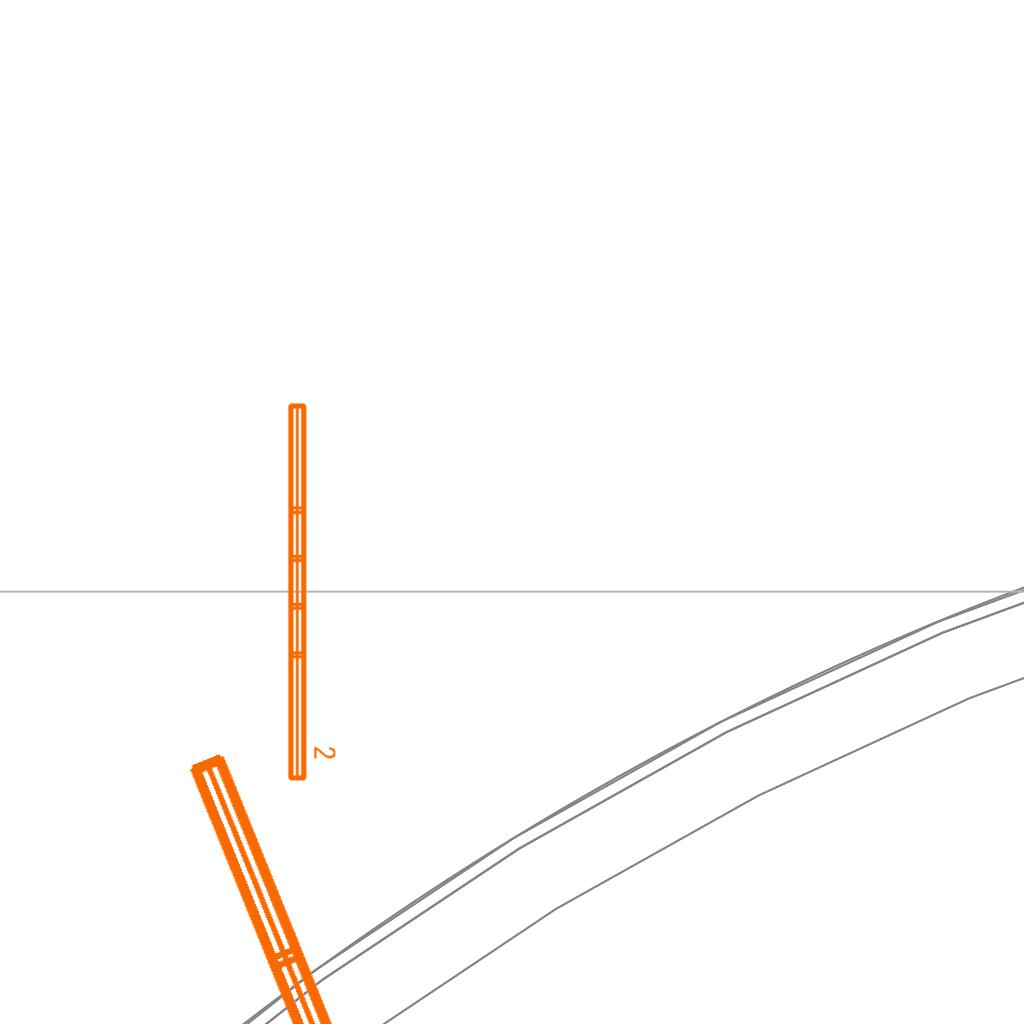Ambulanz_Pendelleuchte_LED: (173, 719, 567, 1024), (282, 398, 338, 785)
